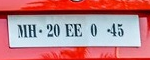0: (90, 23, 98, 37), (53, 24, 61, 37)
2: (46, 23, 54, 37)
4: (109, 22, 117, 37)
5: (116, 23, 125, 38)
E: (73, 23, 84, 37), (64, 23, 74, 37)
H: (27, 23, 37, 38)
M: (17, 23, 28, 38)
